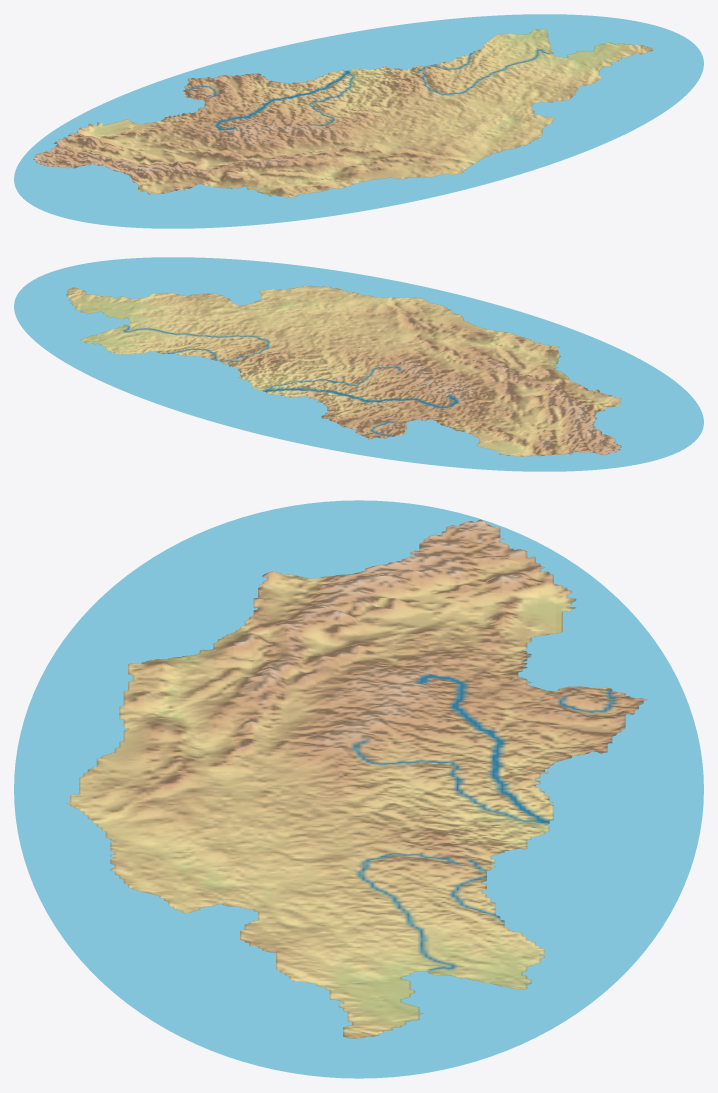
Rendered from MNG-terrain.glb.
3 views of the same model, one above another, from view 1: azimuth 30°, elevation 25°; view 2: azimuth 150°, elevation 25°; view 3: azimuth 270°, elevation 25° (orthographic). The views are drawn at different scales.
Parts seen in each view (by area): view 1: Relevo com hidrografia; view 2: Relevo com hidrografia; view 3: Relevo com hidrografia.
Part boxes in pixels (x1,y1,x2,y2): Relevo com hidrografia: (14,14,703,228); Relevo com hidrografia: (14,257,703,471); Relevo com hidrografia: (14,500,703,1078).
Bounding box in the file's own units: 1.82 × 0.0236 × 0.9179.
2 materials, 1 textured.
